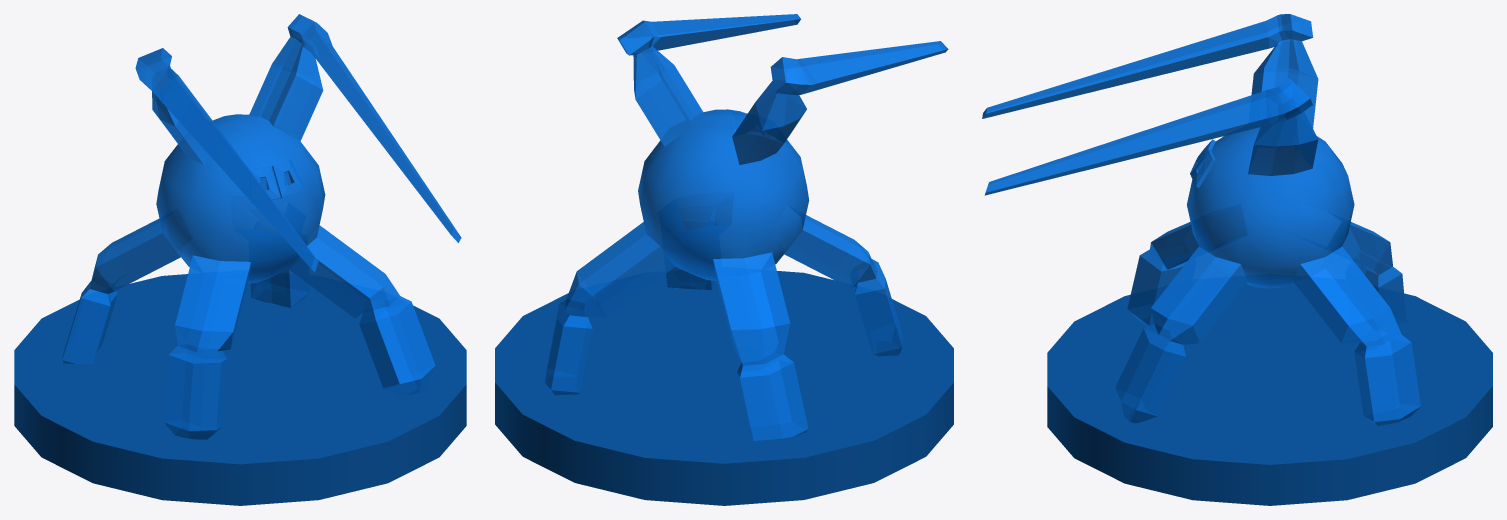
The model's file is BlueTeamAnimal.fbx.
3 views of the same model, side by side, from view 1: azimuth 30°, elevation 25°; view 2: azimuth 150°, elevation 25°; view 3: azimuth 270°, elevation 25° (orthographic). The views are drawn at different scales.
Visible parts, largest first — view 1: Base, Animal; view 2: Base, Animal; view 3: Base, Animal.
Boxes of the visible parts, x1,y1,x2,y2 form: Base: (14,274,466,505); Animal: (62,14,461,439); Base: (495,271,953,505); Animal: (545,14,948,440); Base: (1047,284,1492,505); Animal: (982,14,1420,425).
Bounding box in the file's own units: 39.37 × 35.07 × 44.45.
